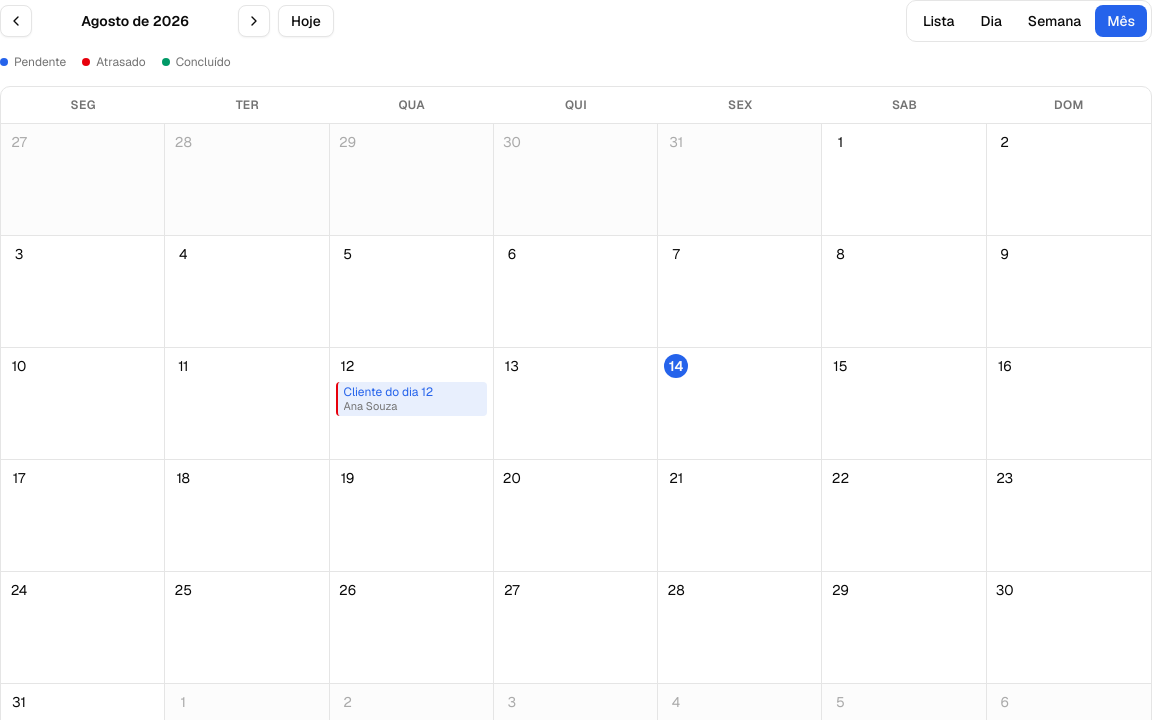
Test: Agenda2Calendario — diálogo do dia e ações do dono › supervisor-somente-leitura: sem botões de escrita, com o nome do vendedor
The width and height of the screenshot is (1152, 720).
Expected: the text "Cliente do dia 12" is shown, [344,384,433,400]
Click the button with aria-label "12 de agosto" at (412, 404), box [330,348,494,460]
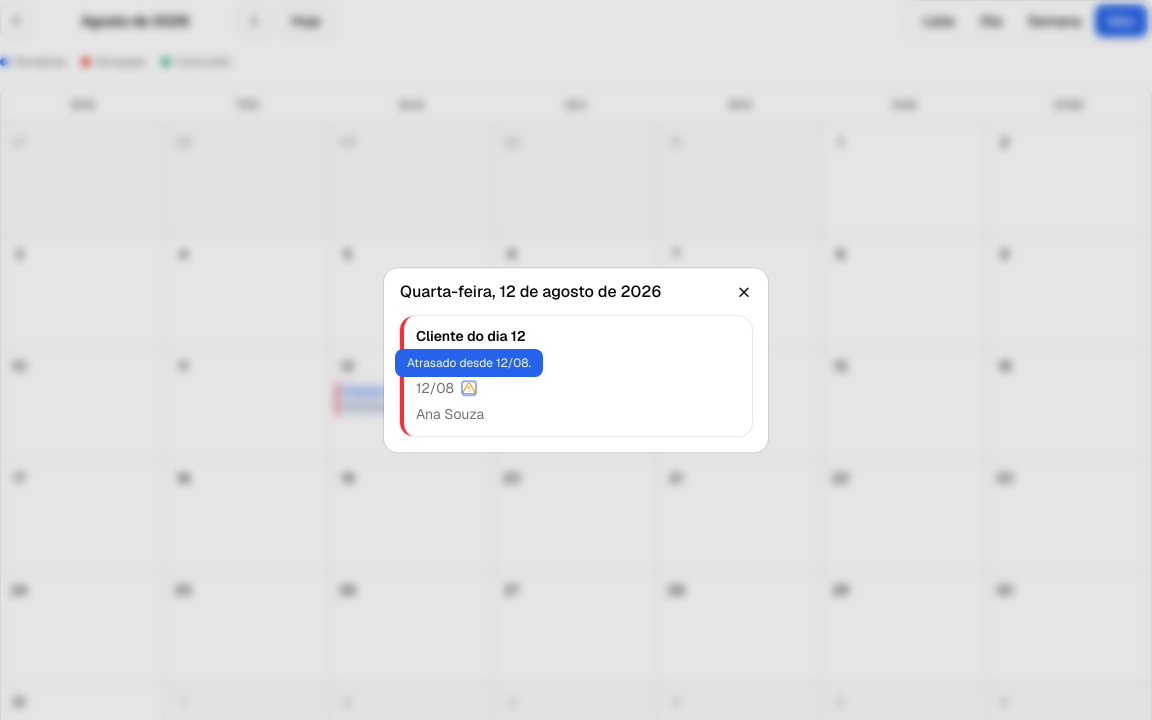
Now the text "Ana Souza" is shown, box [416,405,484,423]
